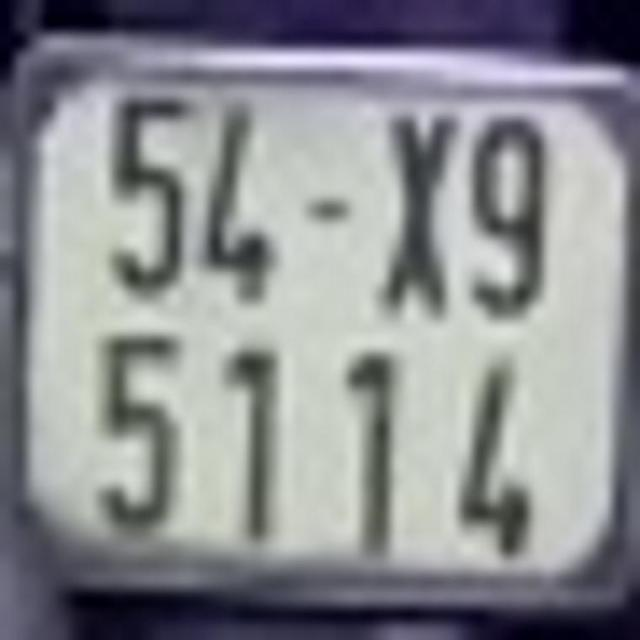1: (223, 350, 276, 540), (346, 353, 393, 553)
4: (203, 100, 279, 302), (460, 358, 530, 558)
5: (112, 96, 187, 300), (102, 336, 174, 526)
9: (468, 118, 542, 316)
X: (386, 114, 456, 317)
